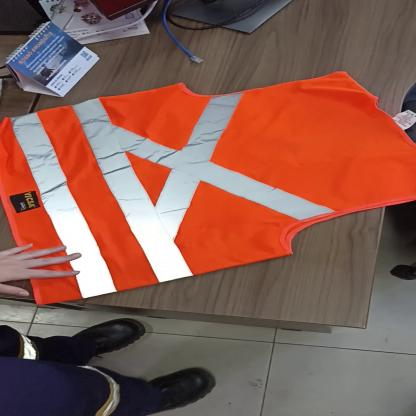colete: (1, 70, 416, 300)
